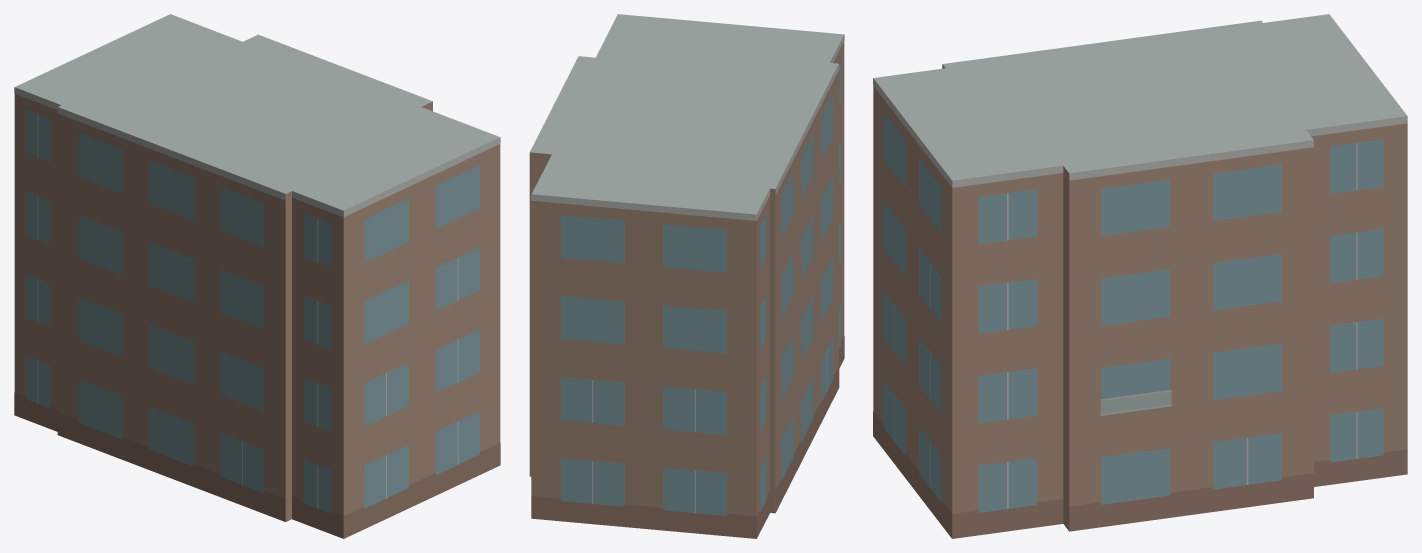
File: survey-upis-32747643.glb
3 renders of one model, left to right at view 1: azimuth 30°, elevation 25°; view 2: azimuth 150°, elevation 25°; view 3: azimuth 270°, elevation 25°, orthographic. The views are drawn at different scales.
Visible parts, largest first — view 1: survey-upis-32747643.tmp; view 2: survey-upis-32747643.tmp; view 3: survey-upis-32747643.tmp.
Boxes of the visible parts, left/top/right/bottom form: survey-upis-32747643.tmp: left=14, top=14, right=500, bottom=538; survey-upis-32747643.tmp: left=529, top=14, right=844, bottom=538; survey-upis-32747643.tmp: left=873, top=14, right=1407, bottom=538.
Bounding box in the file's own units: 12.2 × 12.2 × 16.52.
